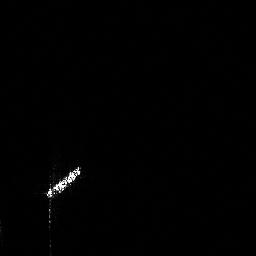ship: (42, 160, 85, 202)
